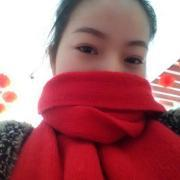WRONG: (50, 18, 152, 120)
